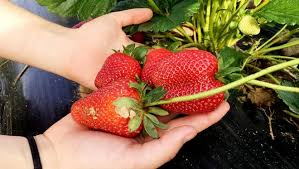ripe: (64, 86, 155, 146), (158, 50, 234, 116), (90, 47, 151, 99), (140, 39, 183, 87)
